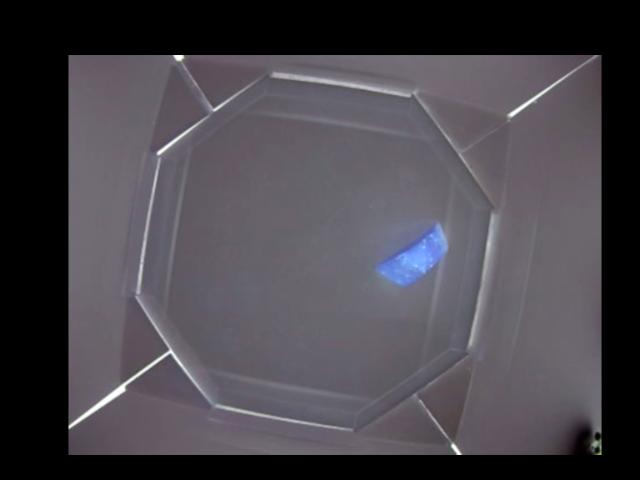Potato: (379, 222, 447, 286)
